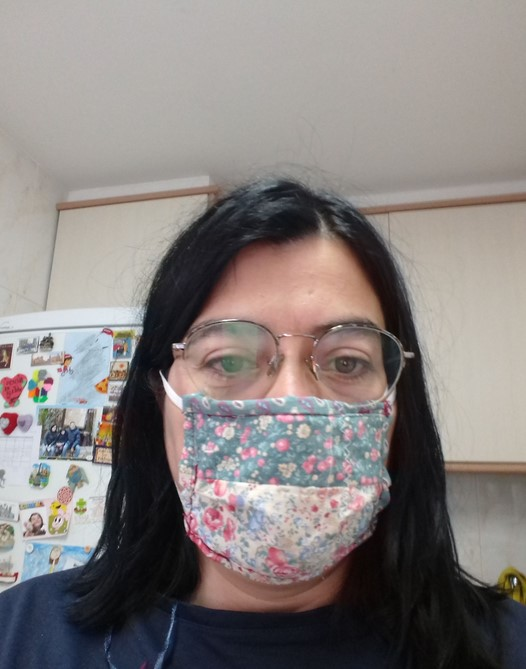face_with_mask: (153, 196, 407, 588)
